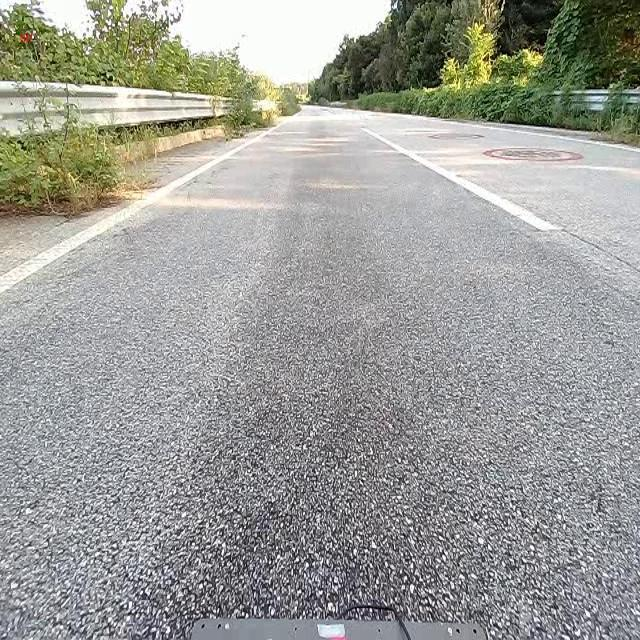Lane: (0, 110, 312, 318), (0, 131, 269, 295), (350, 107, 578, 242), (361, 128, 561, 231)
